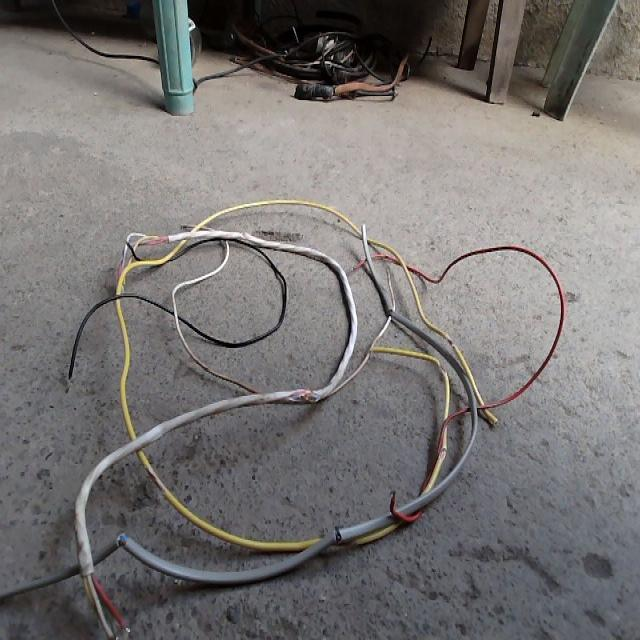-: (145, 463, 166, 493), (285, 387, 319, 402), (114, 530, 128, 546), (437, 357, 448, 376), (445, 332, 456, 348), (332, 525, 341, 543), (436, 445, 446, 460)
